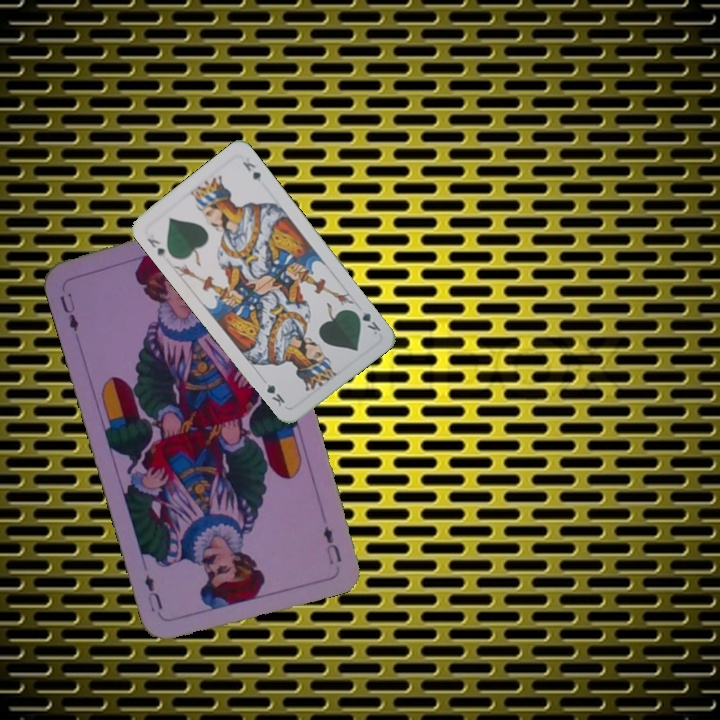EU: (56, 288, 82, 335), (319, 521, 344, 567)
GK: (350, 306, 383, 337), (143, 234, 169, 261)
